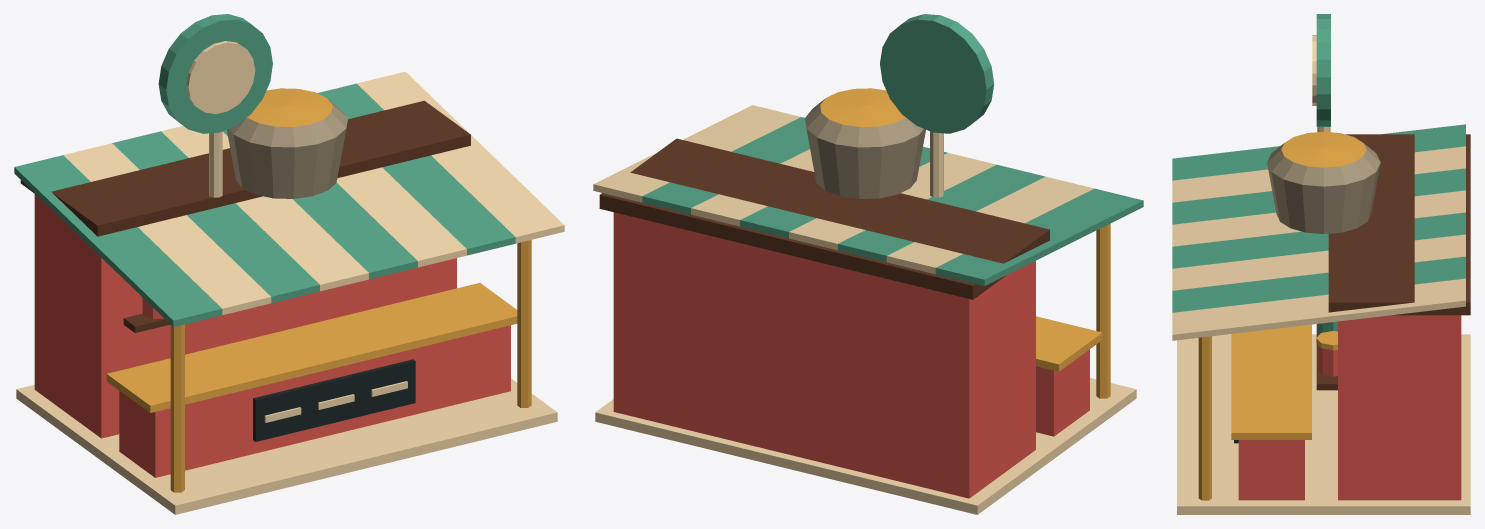
The model's file is ParkParkShopSweets.obj.
3 views of the same model, side by side, from view 1: azimuth 30°, elevation 25°; view 2: azimuth 150°, elevation 25°; view 3: azimuth 270°, elevation 25° (orthographic). The views are drawn at different scales.
Visible parts, largest first — view 1: ParkParkShopSweets; view 2: ParkParkShopSweets; view 3: ParkParkShopSweets.
Part boxes in pixels (x1,y1,x2,y2): ParkParkShopSweets: [14, 14, 564, 514]; ParkParkShopSweets: [593, 14, 1143, 514]; ParkParkShopSweets: [1172, 14, 1470, 514].
Bounding box in the file's own units: 8.8 × 8.8 × 6.3.
